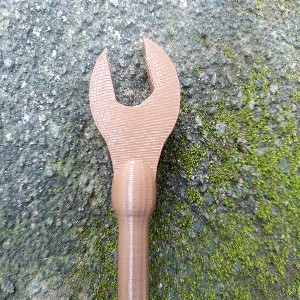spanner: (88, 38, 181, 300)
